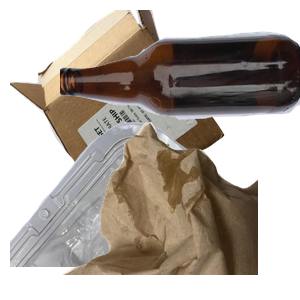cardboard: (10, 10, 227, 190)
glass: (60, 29, 300, 141)
plastic: (10, 120, 250, 300)
trash: (60, 120, 300, 300)
